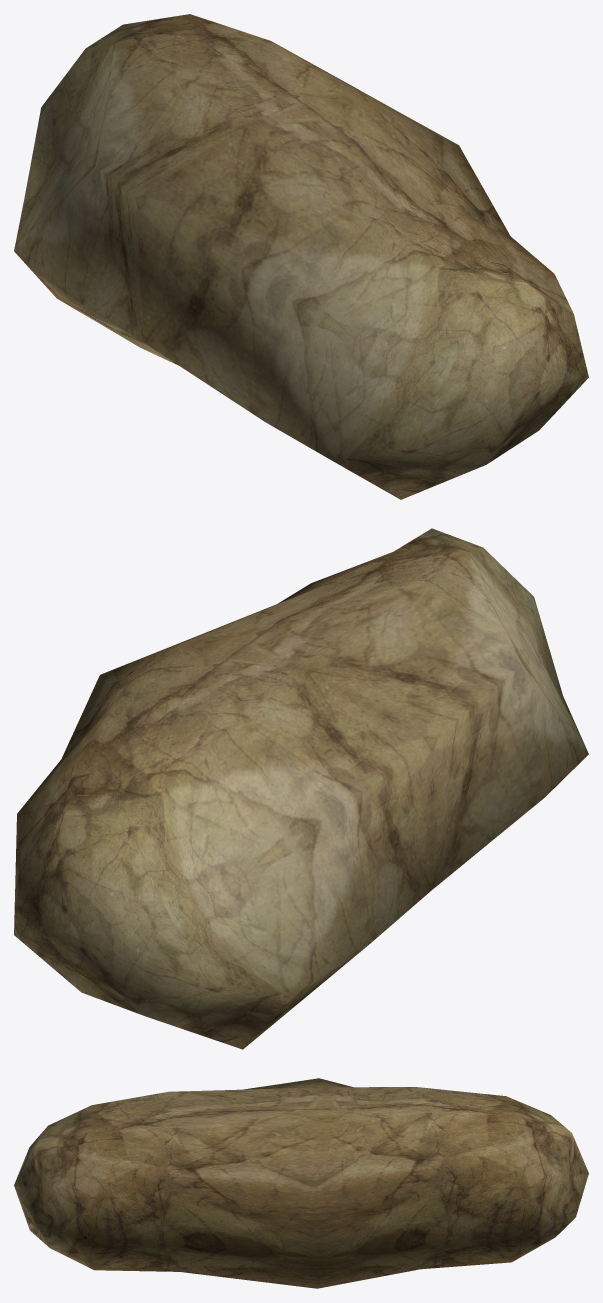
File: Rock02.FBX
3 views of the same model, one above another, from view 1: azimuth 30°, elevation 25°; view 2: azimuth 150°, elevation 25°; view 3: azimuth 270°, elevation 25° (orthographic). The views are drawn at different scales.
Parts seen in each view (by area): view 1: Rock02; view 2: Rock02; view 3: Rock02.
Boxes of the visible parts, x1,y1,x2,y2 form: Rock02: (14,14,588,499); Rock02: (14,528,588,1049); Rock02: (14,1078,588,1288).
Bounding box in the file's own units: 809 × 643 × 1812.
